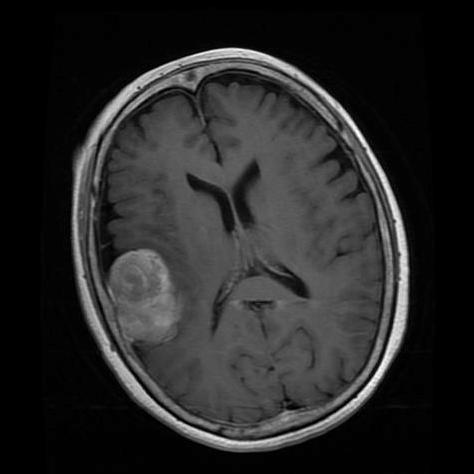Tumour-Meningioma: (95, 243, 198, 373)
